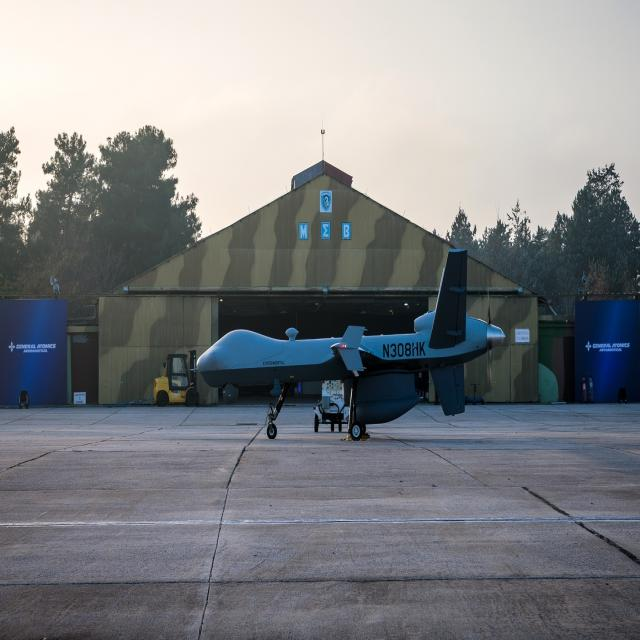MIL_Plane: (186, 248, 506, 442)
